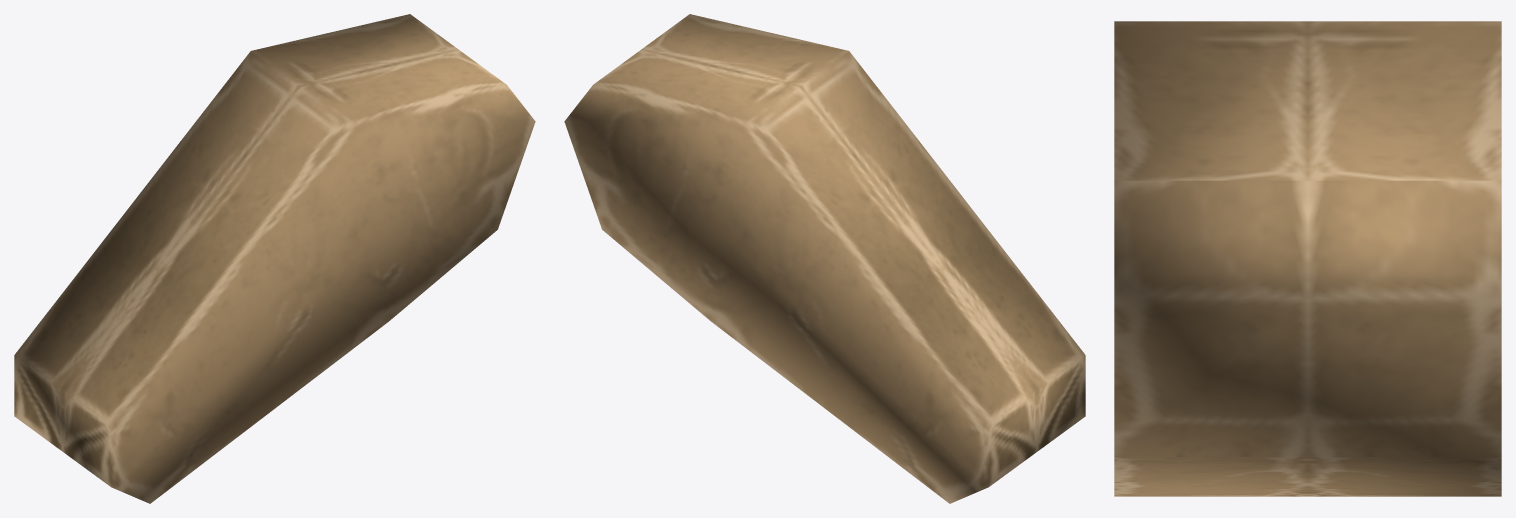
File: FBX_flying_stone_bis_02.fbx
The picture shows the model from 3 angles, left to right: view 1: azimuth 30°, elevation 25°; view 2: azimuth 150°, elevation 25°; view 3: azimuth 270°, elevation 25°; orthographic projection. The views are drawn at different scales.
Visible parts, largest first — view 1: polySurface_flying_stone_bis_02; view 2: polySurface_flying_stone_bis_02; view 3: polySurface_flying_stone_bis_02.
Part boxes in pixels (x1,y1,x2,y2): polySurface_flying_stone_bis_02: (14,14,535,503); polySurface_flying_stone_bis_02: (564,14,1085,503); polySurface_flying_stone_bis_02: (1114,21,1501,496).
Bounding box in the file's own units: 6.21 × 4.67 × 2.45.
